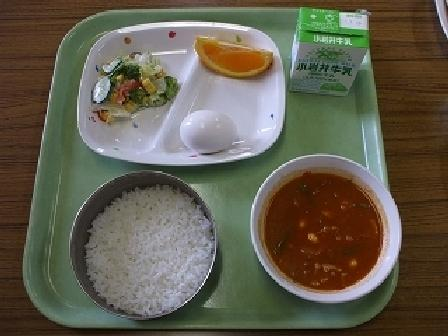Citrus: (182, 18, 278, 91)
Milk: (286, 4, 368, 95)
Rice: (59, 169, 209, 318)
Salad: (78, 46, 174, 125)
Soups: (247, 152, 390, 295)
boiled eggs: (166, 99, 249, 164)
